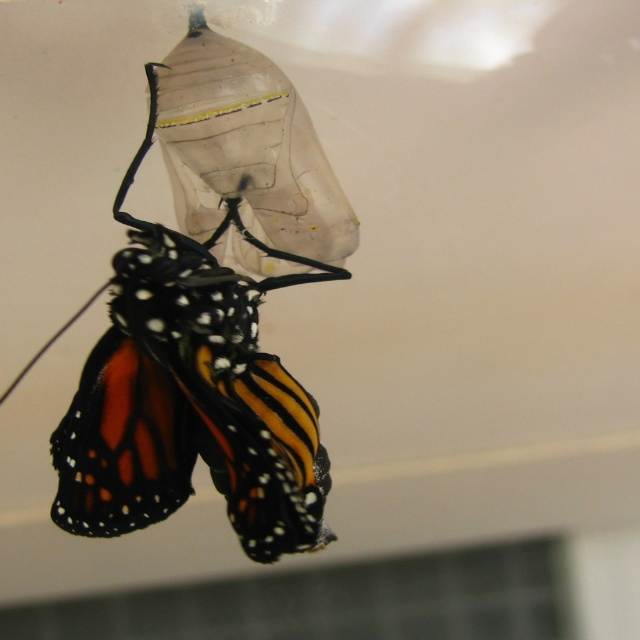Butterfly: (48, 116, 361, 540)
